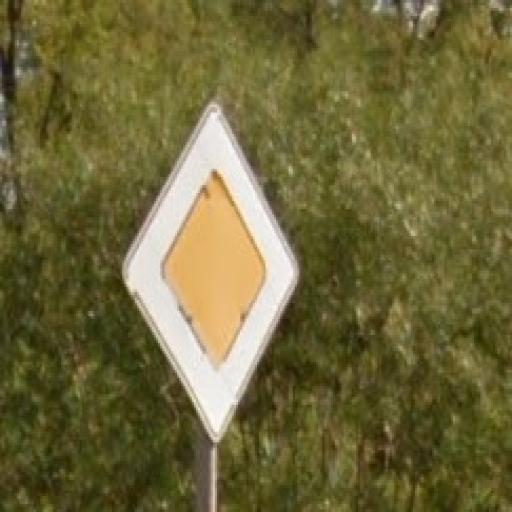traffic_sign: (121, 103, 300, 443)
